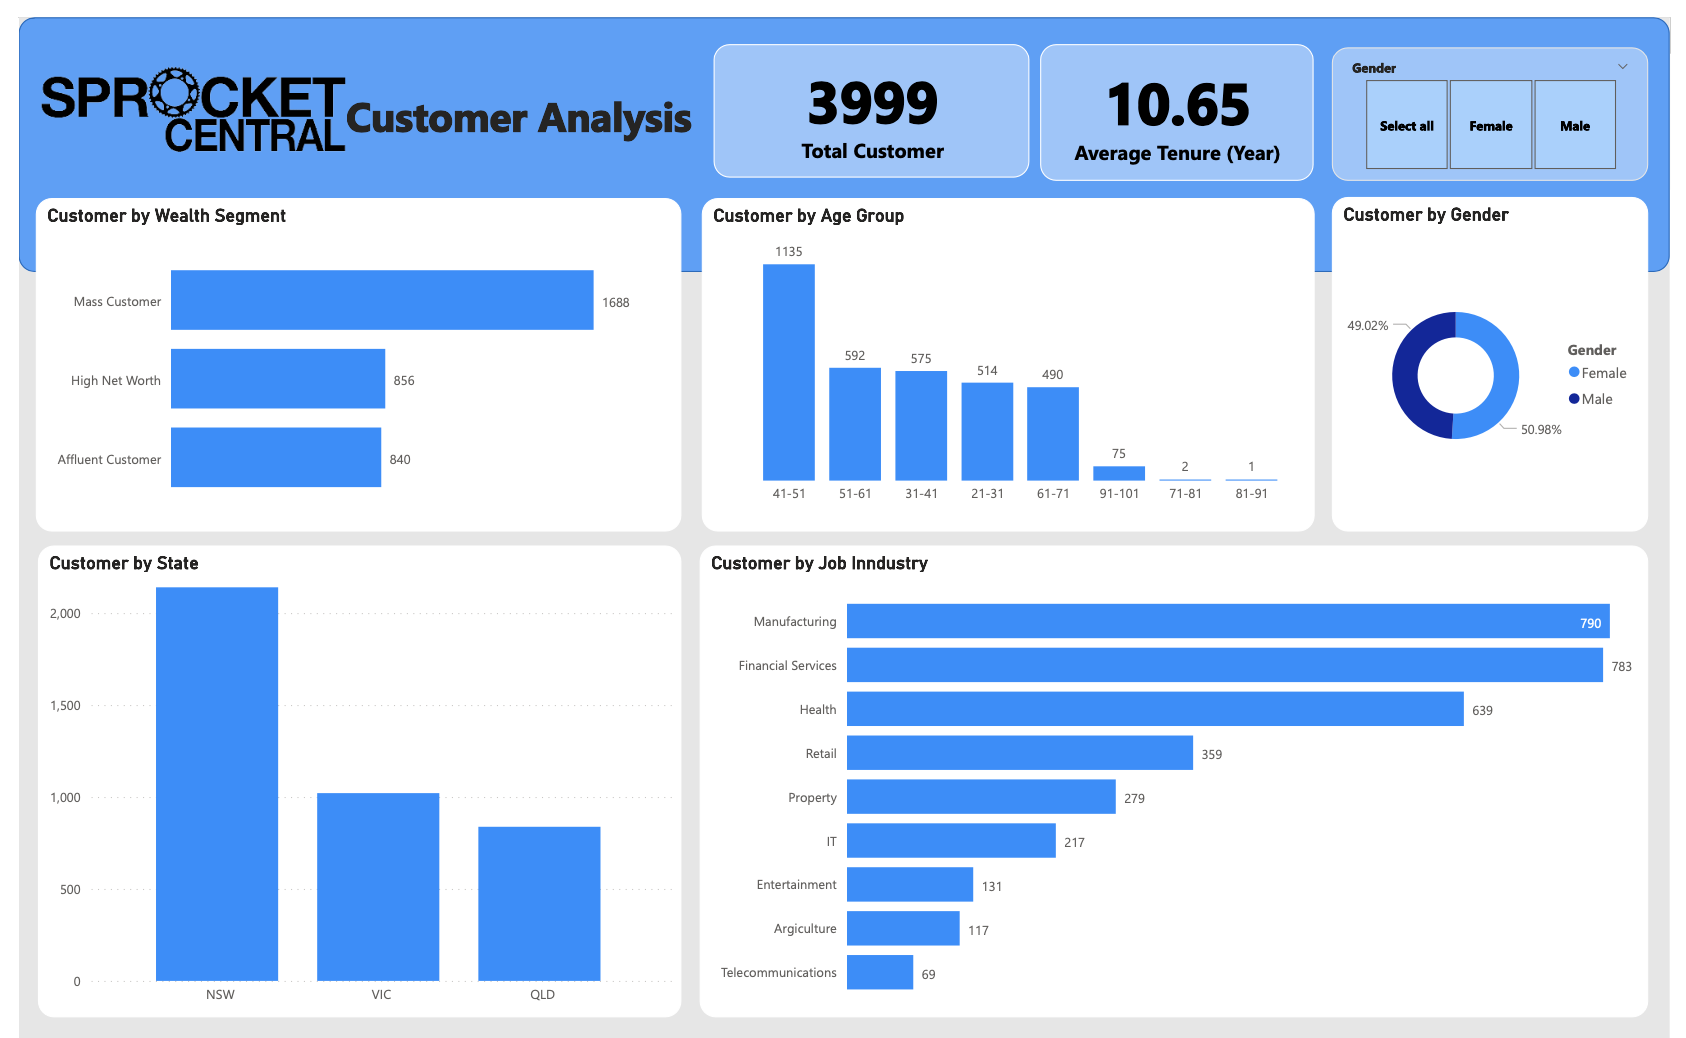

The page's visual inventory and layout, read from the dashboard file:
{"tool":"powerbi","page":{"name":"Customer Analysis Report","canvas":[1540,952],"ordinal":1},"visuals":[{"type":"shape","box":[0,0,1540,238],"z":0},{"type":"clusteredColumnChart","title":"Customer by Age Group","fields":{"Category":["CustomerDemographic.age_group"],"Y":["CountNonNull(CustomerDemographic.customer_id)"]},"box":[636.6,168.6,572.6,311.2],"z":1000},{"type":"columnChart","title":"Customer by State","fields":{"Category":["CustomerAddress.state"],"Y":["CountNonNull(CustomerAddress.customer_id)"]},"box":[17.5,492.5,600,440],"z":2000},{"type":"textbox","box":[295,45,342.5,105],"z":3000},{"type":"card","fields":{"Values":["CountNonNull(CustomerAddress.customer_id)"]},"box":[647.5,25,295,125],"z":4000},{"type":"card","fields":{"Values":["Avg(CustomerDemographic.tenure)"]},"box":[952.5,25,255,127.5],"z":5000},{"type":"barChart","title":"Customer by Wealth Segment","fields":{"Category":["CustomerDemographic.wealth_segment"],"Y":["CountNonNull(CustomerDemographic.customer_id)"]},"box":[16.3,168.6,601.7,311.2],"z":6000},{"type":"clusteredBarChart","title":"Customer by Job Inndustry","fields":{"Category":["CustomerDemographic.job_industry_category"],"Y":["CountNonNull(CustomerDemographic.customer_id)"]},"box":[635,492.5,885,440],"z":7000},{"type":"donutChart","title":"Customer by Gender","fields":{"Category":["CustomerDemographic.gender"],"Y":["CountNonNull(CustomerDemographic.customer_id)"]},"box":[1225,167.5,295,312.5],"z":8000},{"type":"slicer","fields":{"Values":["CustomerDemographic.gender"]},"box":[1225,27.5,295,125],"z":9000},{"type":"image","box":[15,25,302.5,125],"z":10000}]}

Visuals, with their boxes in screenshot pixels (x1, y1, x2, y2), scaled from the page's 1540x952 canvas onto the 1686x1038 screenshot:
shape: 0 0 1685 260
"Customer by Age Group" clusteredColumnChart: 697 184 1324 523
"Customer by State" columnChart: 19 537 676 1017
textbox: 323 49 698 164
card - CountNonNull(CustomerAddress.customer_id): 709 27 1032 164
card - Avg(CustomerDemographic.tenure): 1043 27 1322 166
"Customer by Wealth Segment" barChart: 18 184 677 523
"Customer by Job Inndustry" clusteredBarChart: 695 537 1664 1017
"Customer by Gender" donutChart: 1341 183 1664 523
slicer - CustomerDemographic.gender: 1341 30 1664 166
image: 16 27 348 164
